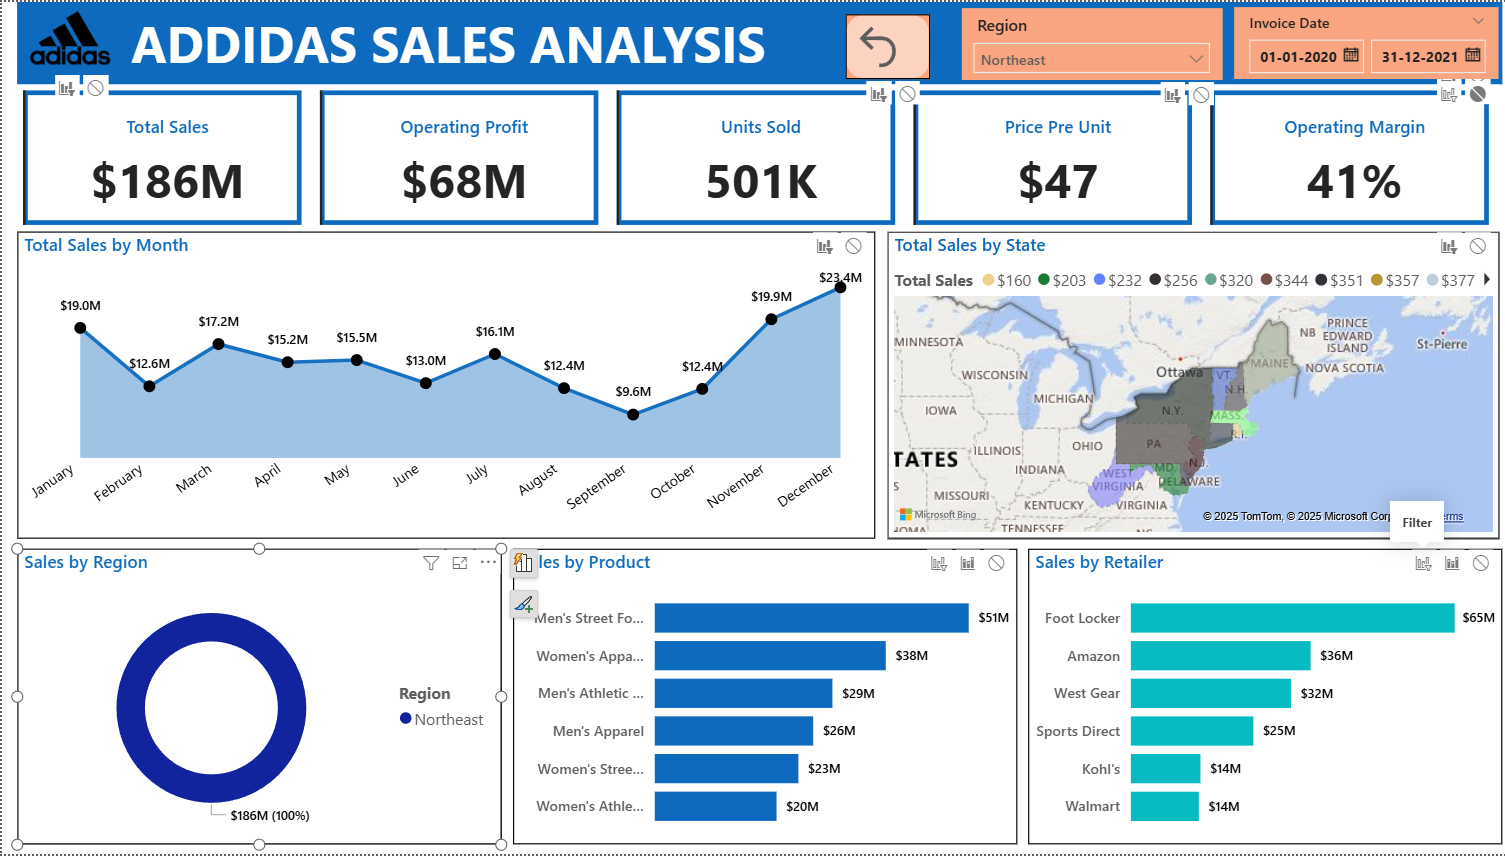

The page's visual inventory and layout, read from the dashboard file:
{"tool":"powerbi","page":{"name":"Page 1","canvas":[1280,720],"ordinal":0},"visuals":[{"type":"shape","box":[13,0,1255.6,69.5],"z":0},{"type":"textbox","box":[104.6,0.9,628.4,68.8],"z":1000},{"type":"cardVisual","fields":{"Data":["Sum(Data Sales Adidas.Total Sales)","Sum(Data Sales Adidas.Operating Profit)","Sum(Data Sales Adidas.Units Sold)","Avg(Data Sales Adidas.Price per Unit)","Avg(Data Sales Adidas.Operating Margin)"]},"box":[13,69.5,1253.4,124.9],"z":2000},{"type":"areaChart","title":"Total Sales by Month","fields":{"Category":["Data Sales Adidas.Invoice Date.Variation.Date Hierarchy.Month"],"Y":["Sum(Data Sales Adidas.Total Sales)"]},"box":[13,194.4,725.5,259.6],"z":3000},{"type":"filledMap","title":"Total Sales by State","fields":{"Category":["Data Sales Adidas.State"],"Series":["Data Sales Adidas.Total Sales"]},"box":[748.3,194.4,518.1,259.6],"z":4000},{"type":"donutChart","title":"Sales by Region","fields":{"Category":["Data Sales Adidas.Region"],"Y":["Sum(Data Sales Adidas.Total Sales)"]},"box":[13,462.7,409.5,249.8],"z":5000},{"type":"barChart","title":"Sales by Product","fields":{"Category":["Data Sales Adidas.Product"],"Y":["Sum(Data Sales Adidas.Total Sales)"]},"box":[432.3,462.7,426.8,249.8],"z":6000},{"type":"barChart","title":"Sales by Retailer","fields":{"Y":["Sum(Data Sales Adidas.Total Sales)"],"Category":["Data Sales Adidas.Retailer"]},"box":[867.8,462.7,400.8,249.8],"z":7000},{"type":"slicer","fields":{"Values":["Data Sales Adidas.Region"]},"box":[811.9,5.5,220.2,60.5],"z":8000},{"type":"slicer","fields":{"Values":["Data Sales Adidas.Invoice Date"]},"box":[1042.2,4.6,223.8,60.5],"z":8001},{"type":"image","box":[19.3,0,78,60.5],"z":8002},{"type":"actionButton","box":[712.8,10.1,71.6,55],"z":8003}]}

Visuals, with their boxes in screenshot pixels (x1, y1, x2, y2), scaled from the page's 1280x720 canvas onto the 1505x858 screenshot:
shape: pyautogui.locateOnScreen(15, 0, 1492, 83)
textbox: pyautogui.locateOnScreen(123, 1, 862, 83)
cardVisual - Sum(Data Sales Adidas.Total Sales) x Sum(Data Sales Adidas.Operating Profit): pyautogui.locateOnScreen(15, 83, 1489, 232)
"Total Sales by Month" areaChart: pyautogui.locateOnScreen(15, 232, 868, 541)
"Total Sales by State" filledMap: pyautogui.locateOnScreen(880, 232, 1489, 541)
"Sales by Region" donutChart: pyautogui.locateOnScreen(15, 551, 497, 849)
"Sales by Product" barChart: pyautogui.locateOnScreen(508, 551, 1010, 849)
"Sales by Retailer" barChart: pyautogui.locateOnScreen(1020, 551, 1492, 849)
slicer - Data Sales Adidas.Region: pyautogui.locateOnScreen(955, 7, 1214, 79)
slicer - Data Sales Adidas.Invoice Date: pyautogui.locateOnScreen(1225, 5, 1489, 78)
image: pyautogui.locateOnScreen(23, 0, 114, 72)
actionButton: pyautogui.locateOnScreen(838, 12, 922, 78)
